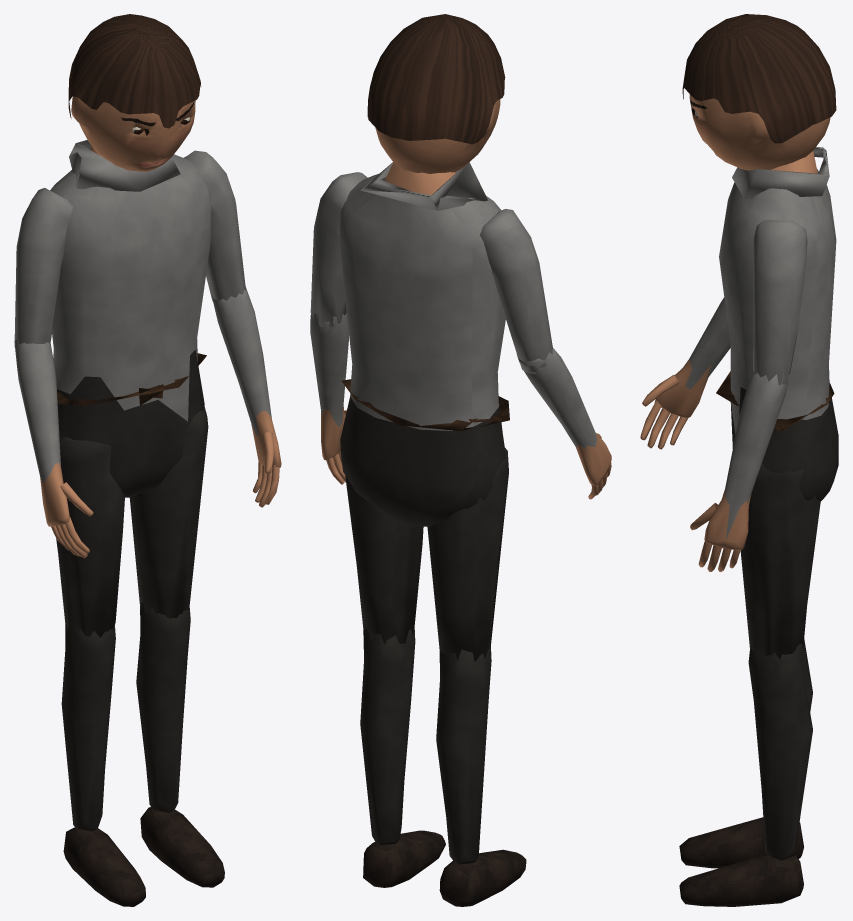
File: persona_nino_c_lod.obj
3 renders of one model, left to right at view 1: azimuth 30°, elevation 25°; view 2: azimuth 150°, elevation 25°; view 3: azimuth 270°, elevation 25°, orthographic.
Parts seen in each view (by area): view 1: Torso, PiernaIzq, PiernaDer, Pelo, MusloDer, MusloIzq, AntebrazoDer, BrazoDer, AntebrazoIzq, Cabeza, BrazoIzq, Cuello (+1 smaller); view 2: Torso, Pelo, PiernaDer, PiernaIzq, MusloDer, MusloIzq, BrazoDer, AntebrazoDer, BrazoIzq, AntebrazoIzq, Cabeza, Cuello (+1 smaller); view 3: Torso, PiernaIzq, Pelo, MusloIzq, BrazoIzq, AntebrazoIzq, Cabeza, AntebrazoDer, PiernaDer, Cuello, Cinturon.
Boxes of the visible parts, bbox=[...] form: Torso: bbox=[50, 146, 211, 497]; PiernaIzq: bbox=[136, 602, 224, 887]; PiernaDer: bbox=[61, 622, 145, 906]; Pelo: bbox=[68, 14, 201, 128]; MusloDer: bbox=[56, 437, 124, 637]; MusloIzq: bbox=[129, 405, 208, 618]; AntebrazoDer: bbox=[14, 338, 93, 558]; BrazoDer: bbox=[14, 188, 72, 346]; AntebrazoIzq: bbox=[212, 287, 281, 507]; Cabeza: bbox=[71, 96, 195, 171]; BrazoIzq: bbox=[184, 150, 245, 302]; Cuello: bbox=[69, 140, 180, 191]; Torso: bbox=[338, 162, 505, 526]; Pelo: bbox=[367, 14, 505, 144]; PiernaDer: bbox=[436, 646, 526, 906]; PiernaIzq: bbox=[360, 625, 445, 887]; MusloDer: bbox=[427, 448, 508, 661]; MusloIzq: bbox=[345, 475, 423, 644]; BrazoDer: bbox=[480, 209, 552, 373]; AntebrazoDer: bbox=[516, 348, 611, 499]; BrazoIzq: bbox=[310, 172, 367, 327]; AntebrazoIzq: bbox=[310, 306, 348, 484]; Cabeza: bbox=[375, 99, 500, 173]; Cuello: bbox=[360, 162, 487, 210]; Torso: bbox=[719, 151, 838, 501]; PiernaIzq: bbox=[679, 640, 812, 906]; Pelo: bbox=[682, 14, 836, 143]; MusloIzq: bbox=[740, 463, 820, 659]; BrazoIzq: bbox=[753, 220, 807, 385]; AntebrazoIzq: bbox=[690, 371, 789, 571]; Cabeza: bbox=[689, 94, 830, 170]; AntebrazoDer: bbox=[640, 297, 730, 449]; PiernaDer: bbox=[679, 639, 812, 868]; Cuello: bbox=[732, 146, 829, 199]; Cinturon: bbox=[716, 371, 834, 431].
Size of the model in its own units: 0.3637 by 1.19 by 0.2478.
Materials: 12 (12 with a texture image).
